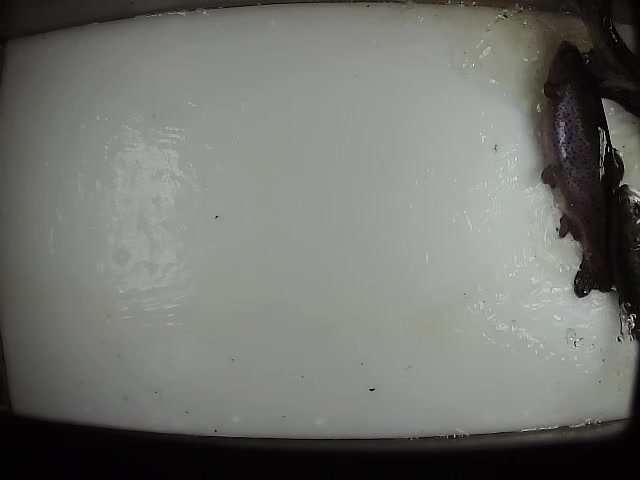fish: (537, 38, 620, 298)
